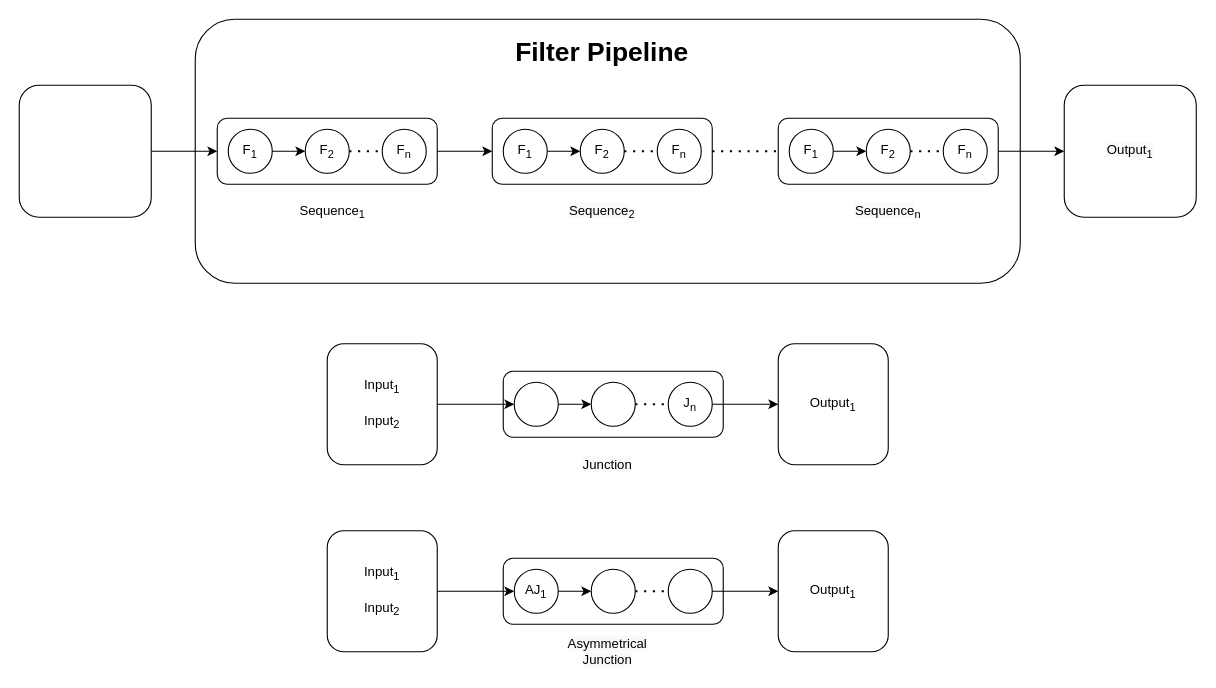
The diagram is 1216 pixels wide and 688 high, and some of its shapes have lost their labels. The centre of each missing label's shape, as x and y in pixels:
AJ 2: [612,590]
AJ n: [689,590]
Input 1: [84,150]
J 1: [535,403]
J 2: [612,403]
